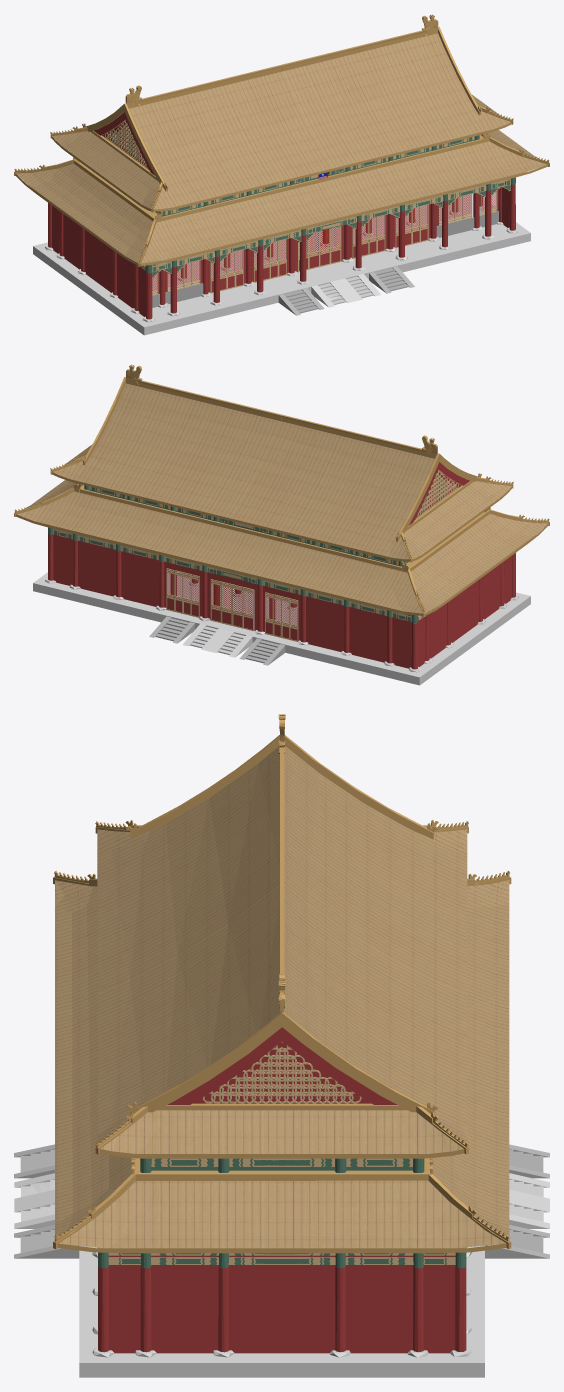
Rendered from 2019_08_08_135350_position_recolor.gltf.
3 renders of one model, top to bottom at view 1: azimuth 30°, elevation 25°; view 2: azimuth 150°, elevation 25°; view 3: azimuth 270°, elevation 25°, orthographic. The views are drawn at different scales.
Parts seen in each view (by area): view 1: polySurface3813:PIV; view 2: polySurface3813:PIV; view 3: polySurface3813:PIV.
Boxes of the visible parts, bbox=[...] form: polySurface3813:PIV: bbox=[14, 14, 549, 335]; polySurface3813:PIV: bbox=[14, 364, 549, 685]; polySurface3813:PIV: bbox=[14, 714, 549, 1377].
Size of what is drawn, in the model's own units: 83.75 by 38.25 by 51.75.
